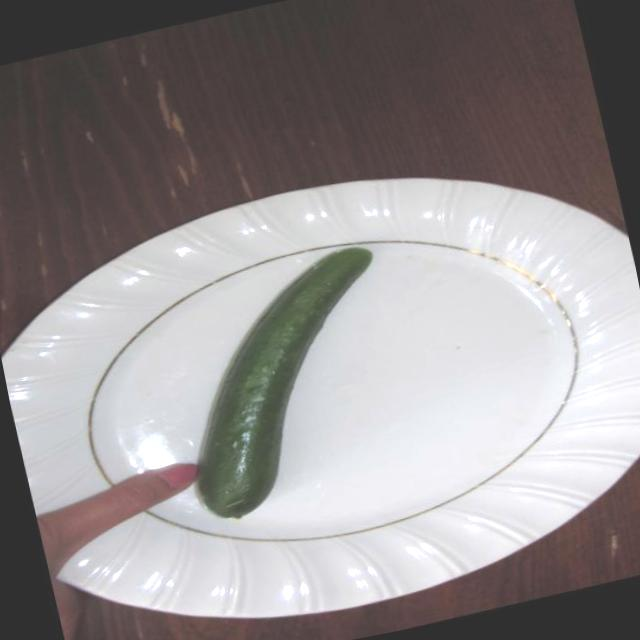Cucumber: (143, 236, 434, 534)
Finger: (83, 453, 208, 541)
